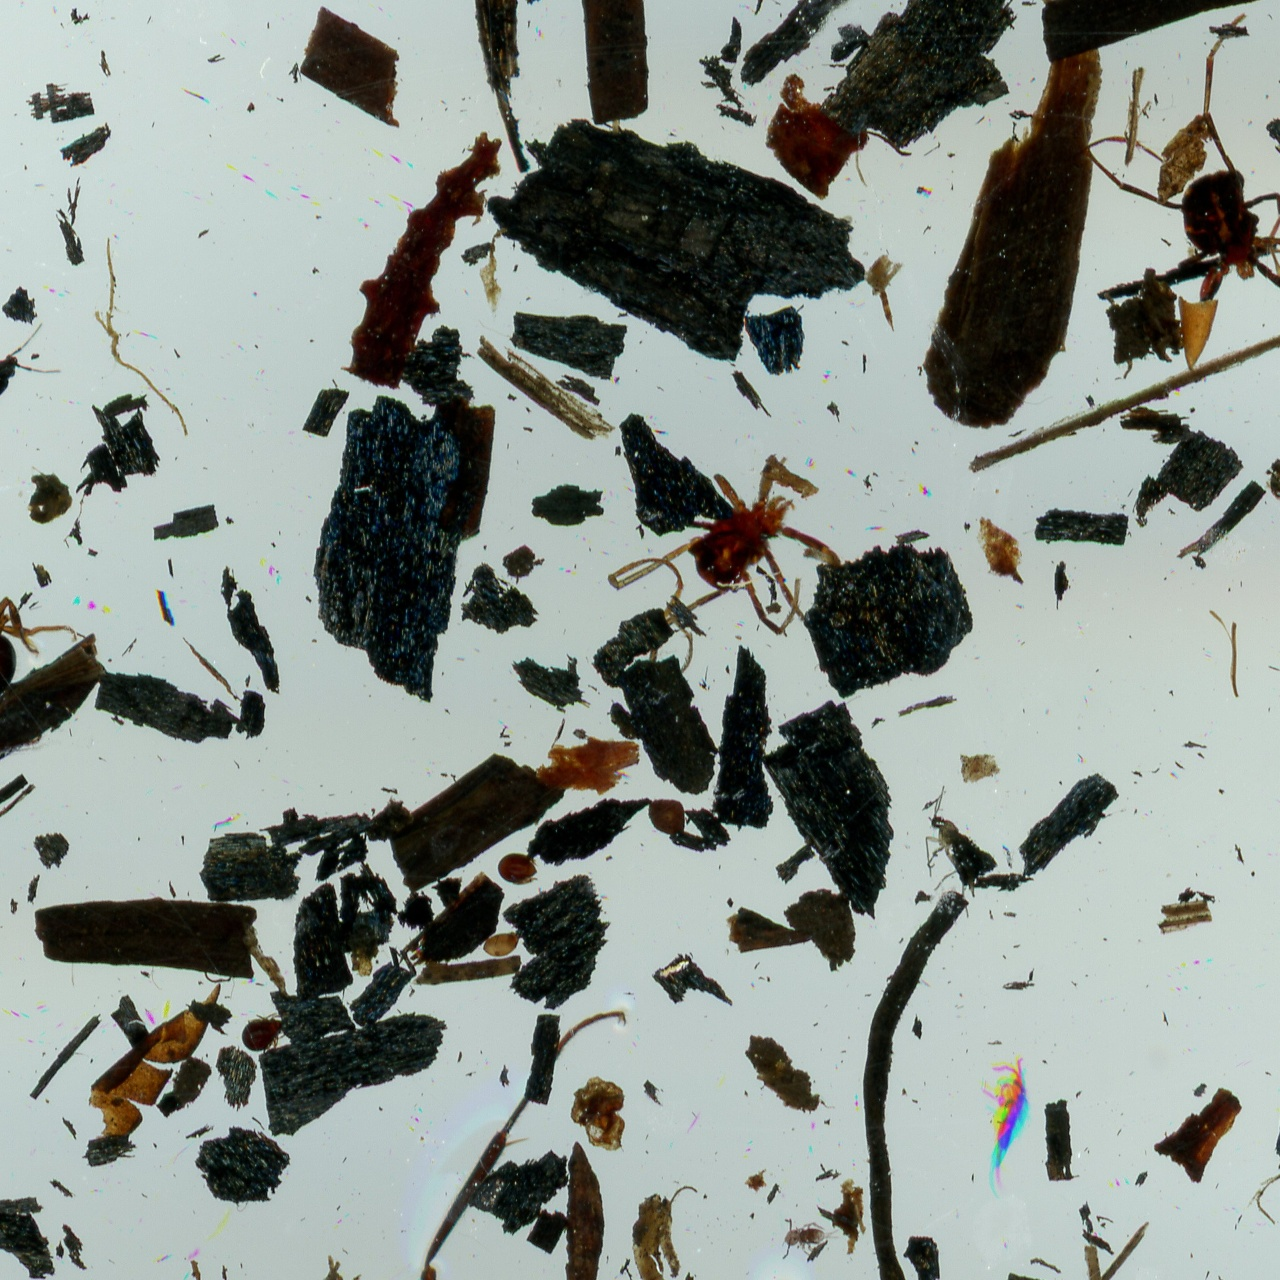arthropod: (329, 998, 799, 1280), (1082, 8, 1280, 306), (607, 449, 849, 660), (0, 529, 97, 768), (919, 784, 985, 924), (979, 1056, 1040, 1201), (0, 319, 63, 413), (778, 1212, 843, 1262), (239, 1012, 288, 1056), (1015, 0, 1169, 13), (497, 850, 544, 887)
